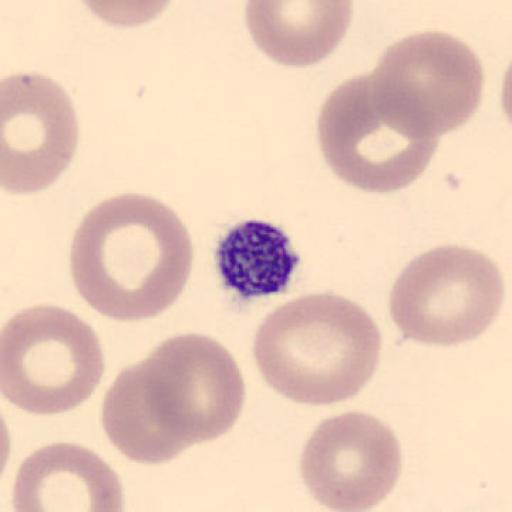Platelet: (210, 216, 304, 304)
RBC: (68, 190, 196, 326), (252, 290, 382, 408), (315, 73, 439, 194), (368, 28, 485, 138), (387, 242, 506, 349), (2, 302, 106, 416), (142, 331, 246, 445), (297, 407, 402, 512), (100, 359, 194, 466), (2, 70, 80, 198), (11, 438, 126, 512), (243, 0, 354, 69), (75, 0, 178, 31), (0, 404, 13, 496), (0, 406, 11, 509), (499, 53, 512, 129)
